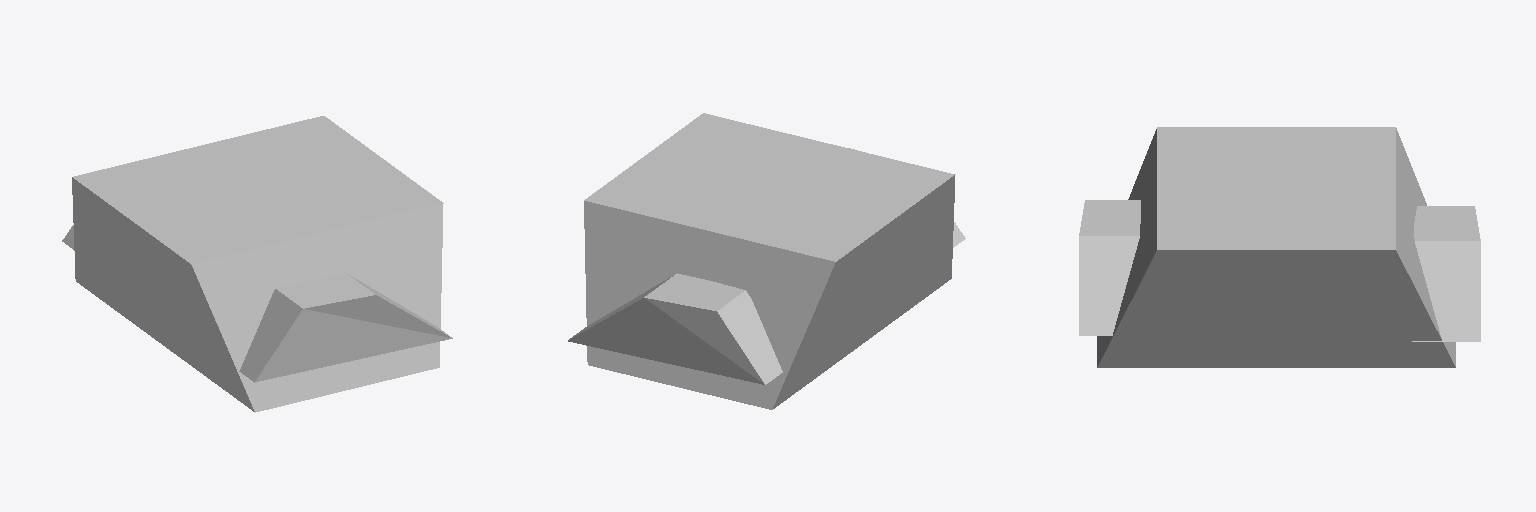
File: enemy.obj
The picture shows the model from 3 angles: view 1: azimuth 30°, elevation 25°; view 2: azimuth 150°, elevation 25°; view 3: azimuth 270°, elevation 25°; orthographic projection.
Parts seen in each view (by area): view 1: 立方体.002; view 2: 立方体.002; view 3: 立方体.002.
Boxes of the visible parts, <box> form: 立方体.002: <box>62,116,452,412</box>; 立方体.002: <box>568,113,965,409</box>; 立方体.002: <box>1079,127,1480,367</box>.
Size of the model in its own units: 1.48 by 0.7521 by 2.04.